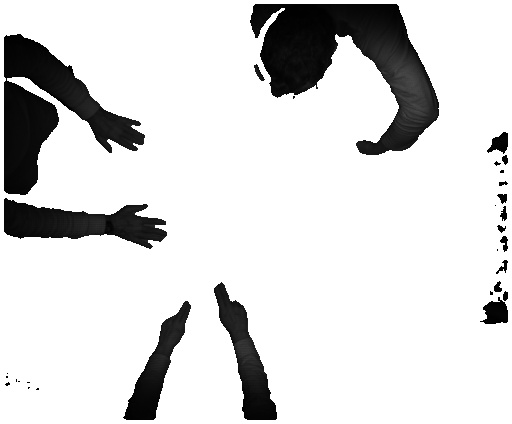fist: (352, 139, 382, 159)
hand: (115, 200, 167, 255), (92, 111, 151, 159), (211, 280, 255, 336), (152, 296, 191, 349)
